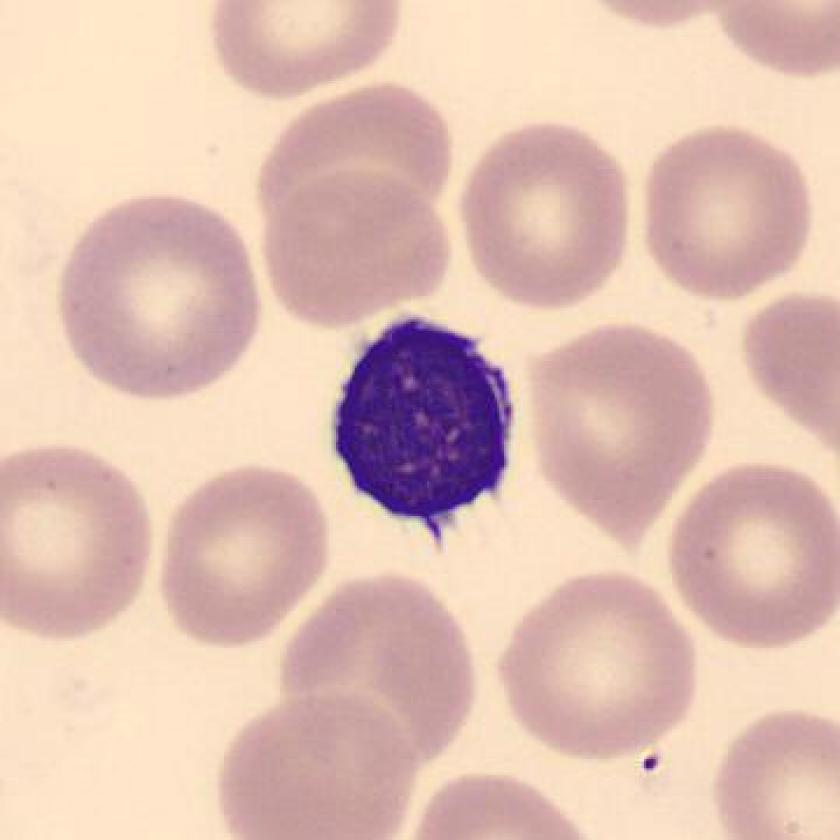lymphocyte: (321, 300, 528, 557)
